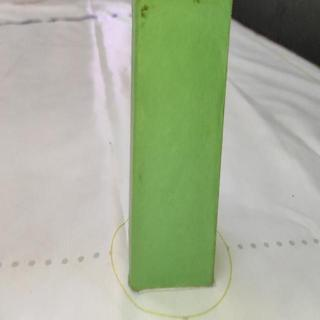greenbox: (129, 0, 233, 290)
